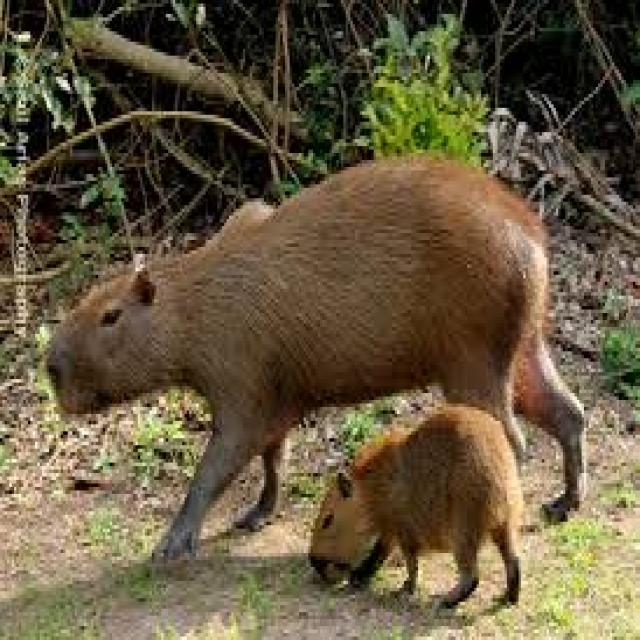capy: (42, 155, 586, 567), (306, 399, 524, 609)
